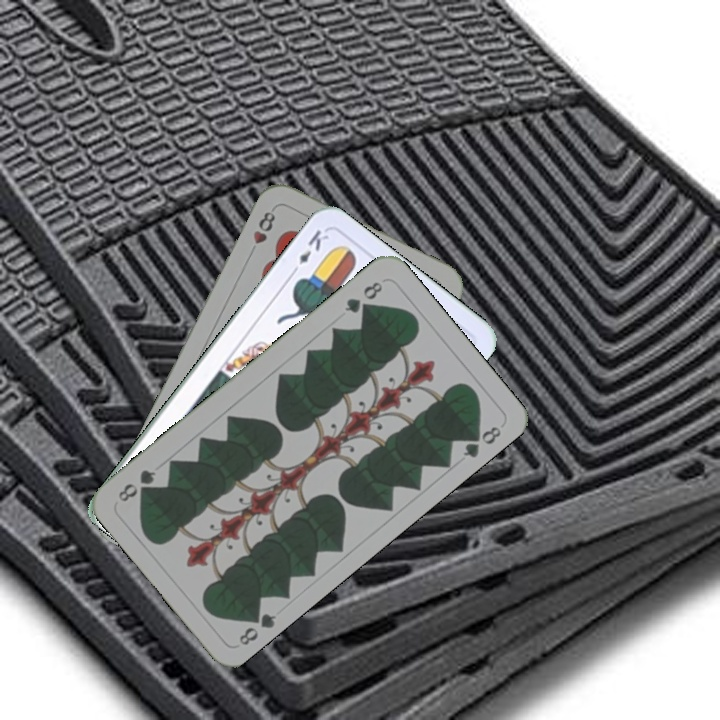EK: (287, 225, 332, 278)
G8: (234, 605, 279, 648), (340, 277, 386, 316)
H8: (245, 207, 278, 259)
